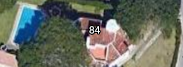pool: (20, 8, 36, 43)
